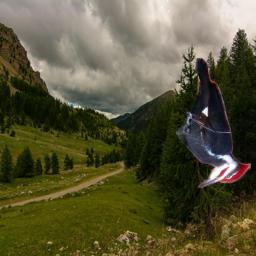Woodpecker: (176, 58, 251, 188)
